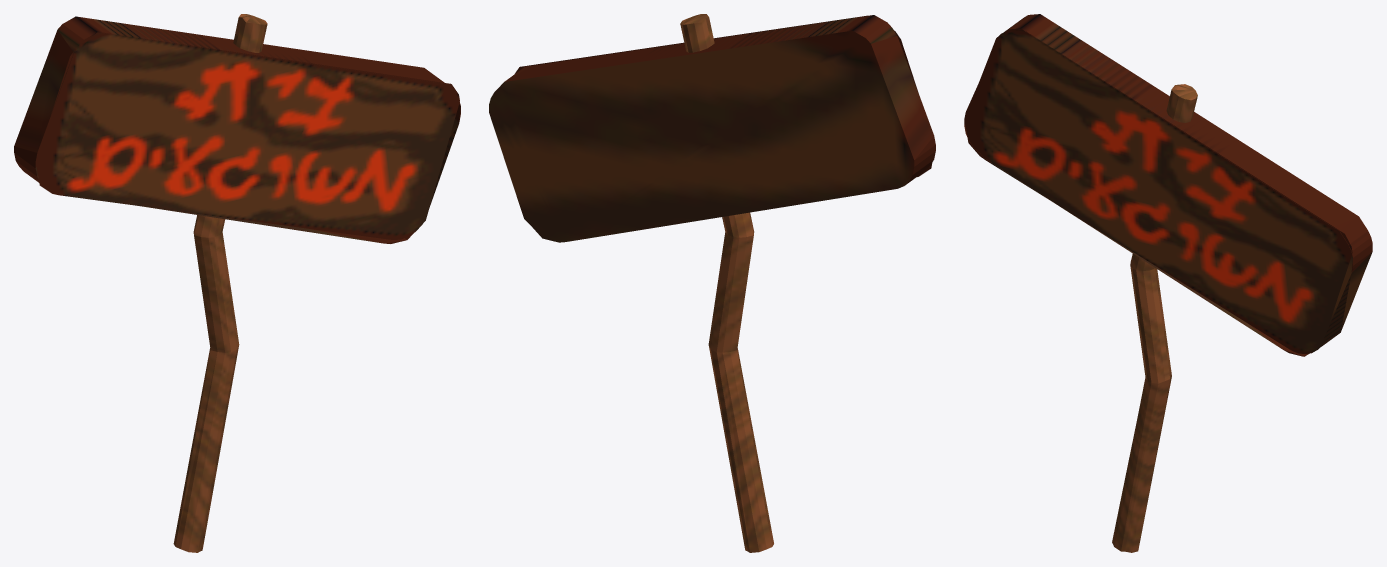
File: Asign.glb
3 renders of one model, left to right at view 1: azimuth 30°, elevation 25°; view 2: azimuth 150°, elevation 25°; view 3: azimuth 330°, elevation 25°, orthographic. The views are drawn at different scales.
Parts seen in each view (by area): view 1: Asign; view 2: Asign; view 3: Asign.
Boxes of the visible parts, box(x1,y1,x2,y2) form: Asign: box(14, 14, 460, 552); Asign: box(489, 14, 935, 552); Asign: box(964, 14, 1372, 552).
Size of the model in its own units: 342 by 424 by 30.
Materials: 1 (1 with a texture image).
